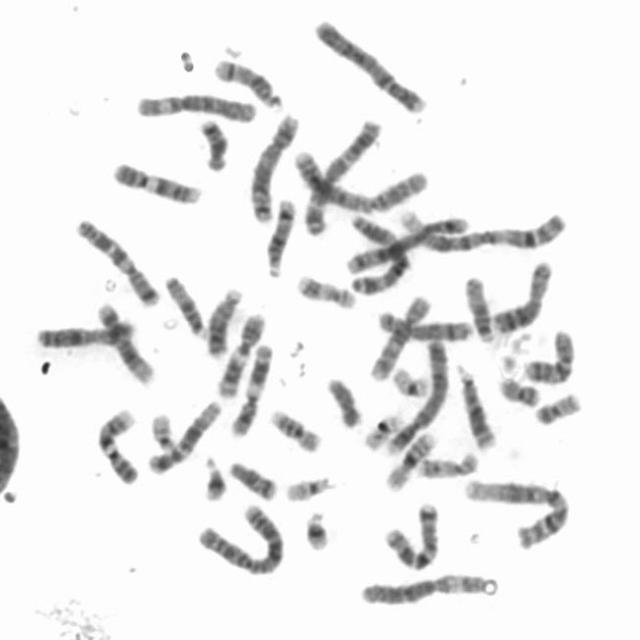A1: (394, 200, 570, 255), (458, 470, 576, 550)
A2: (289, 142, 431, 214), (193, 495, 290, 578)
A3: (299, 112, 386, 237), (344, 207, 414, 296)
B4: (309, 10, 431, 115), (383, 331, 452, 456)
B5: (342, 208, 473, 276), (245, 106, 304, 225)
C10: (365, 286, 436, 382), (519, 321, 581, 386)
C11: (214, 304, 271, 400), (226, 336, 277, 438)
C12: (144, 391, 226, 476), (92, 295, 160, 386)
C6: (355, 566, 498, 608), (132, 85, 261, 124)
C7: (71, 210, 165, 309), (380, 494, 445, 572)
C8: (488, 253, 557, 335), (373, 302, 477, 343)
C9: (107, 154, 207, 206), (92, 401, 144, 486)
D13: (452, 358, 502, 452), (203, 280, 247, 359)
D14: (209, 51, 287, 110), (262, 192, 300, 278)
D15: (160, 268, 212, 339), (460, 269, 499, 345)
E16: (381, 424, 441, 493), (266, 402, 327, 454)
E17: (293, 266, 361, 310), (413, 444, 482, 480)
E18: (224, 452, 283, 502), (195, 110, 233, 172)
F19: (360, 406, 408, 452), (389, 360, 434, 398)
F20: (530, 384, 586, 427), (495, 369, 545, 409)
G21: (300, 502, 335, 552), (199, 448, 231, 502)
G22: (281, 467, 338, 503), (146, 406, 181, 452)
X: (30, 313, 140, 350)
